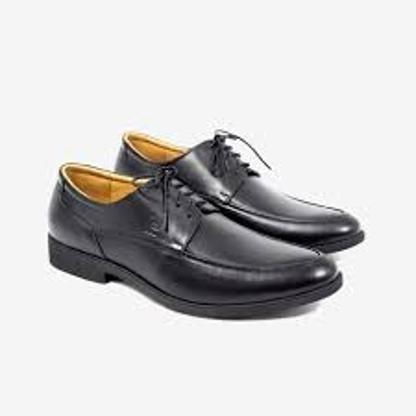not trash: (46, 129, 365, 315)
